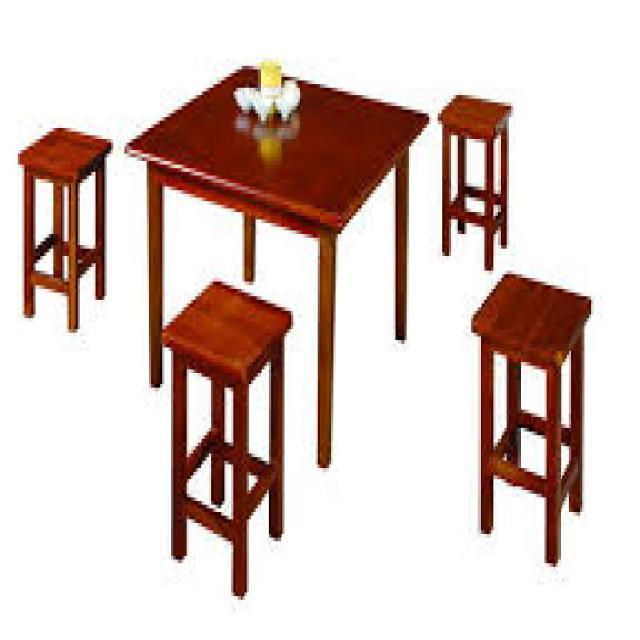table: (12, 52, 609, 610)
